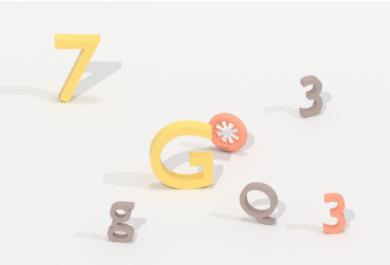0-TronLo: (208, 110, 249, 154)
3: (296, 72, 327, 122)
7: (51, 29, 105, 107)
G: (145, 116, 218, 193)
Q: (237, 179, 281, 230), (318, 191, 352, 239)
g: (106, 197, 139, 247)
